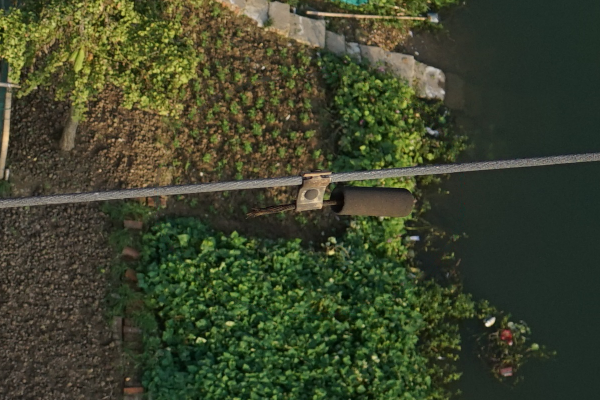damper_defect: (242, 165, 416, 225)
